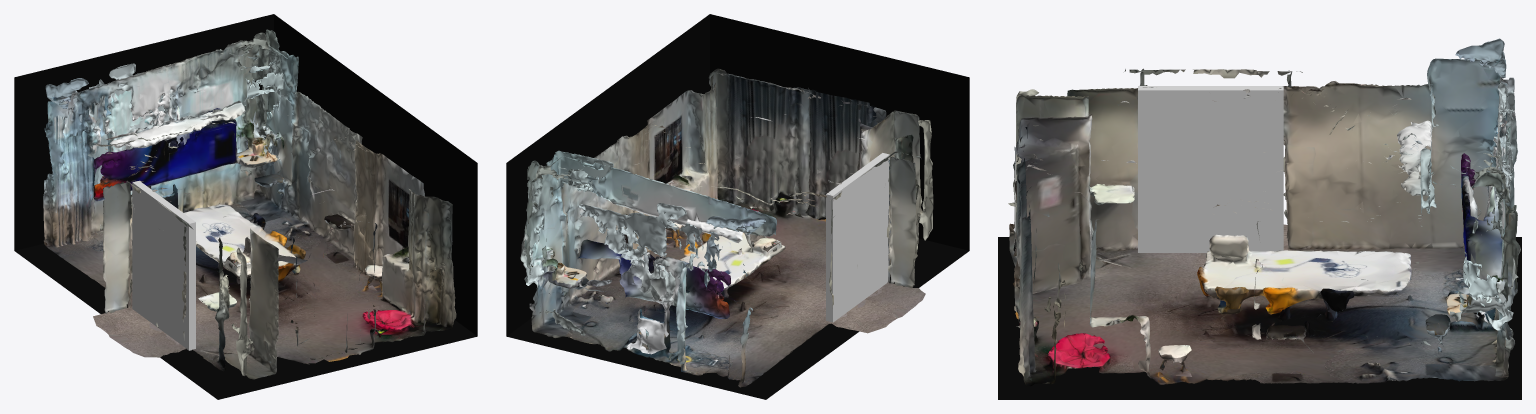
File: gofore_0.glb
The picture shows the model from 3 angles, left to right: view 1: azimuth 30°, elevation 25°; view 2: azimuth 150°, elevation 25°; view 3: azimuth 270°, elevation 25°; orthographic projection. The views are drawn at different scales.
Visible parts, largest first — view 1: gofore_0_highpoly.001, darkness.003, gofore_o_door; view 2: gofore_0_highpoly.001, darkness.003, gofore_o_door; view 3: gofore_0_highpoly.001, gofore_o_door, darkness.003.
Part boxes in pixels (left/top/right/bottom): gofore_0_highpoly.001: left=43, top=29, right=456, bottom=379; darkness.003: left=14, top=14, right=477, bottom=399; gofore_o_door: left=132, top=180, right=195, bottom=350; gofore_0_highpoly.001: left=520, top=68, right=933, bottom=387; darkness.003: left=506, top=14, right=969, bottom=399; gofore_o_door: left=826, top=153, right=889, bottom=322; gofore_0_highpoly.001: left=1008, top=38, right=1520, bottom=386; gofore_o_door: left=1138, top=86, right=1283, bottom=252; darkness.003: left=998, top=237, right=1521, bottom=399.
Size of the model in its own units: 5.71 by 3.38 by 7.19.
Materials: 2 (1 with a texture image).
